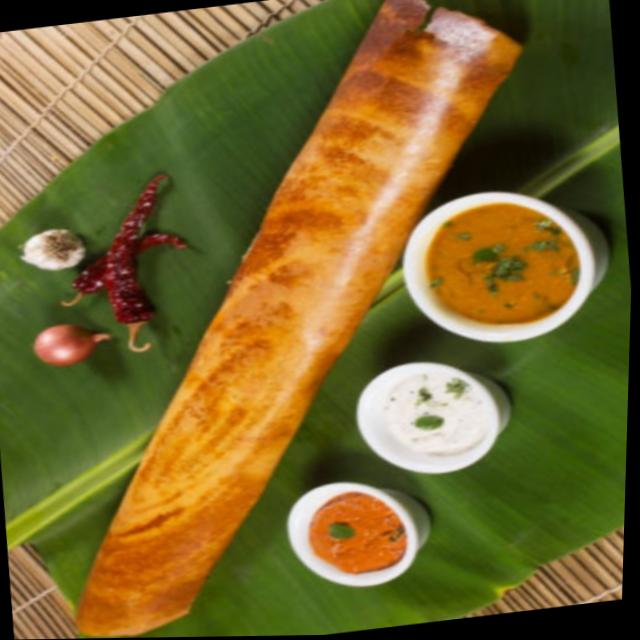DOSA: (74, 0, 518, 636)
RED CHUTNEY: (305, 489, 413, 576)
SAMBAR: (427, 204, 577, 325)
WHITE CHUTNEY: (355, 362, 507, 474)
